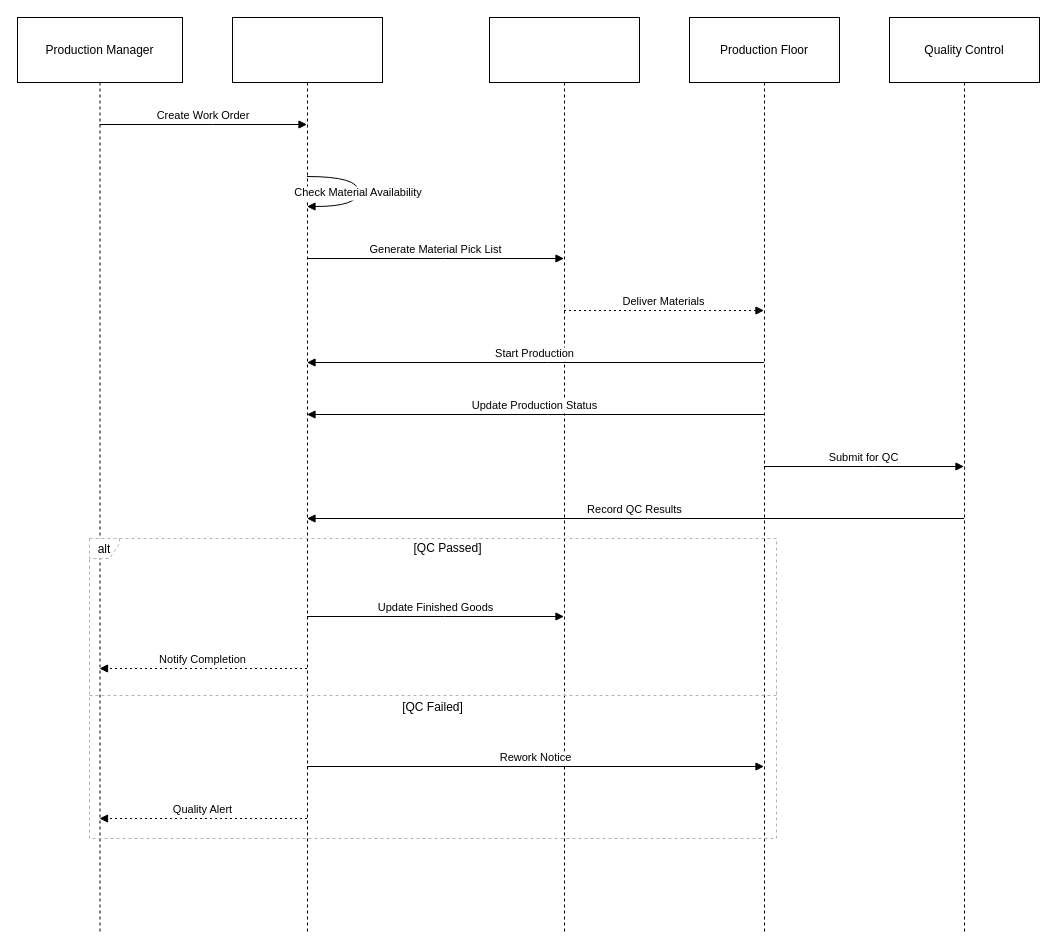
Some shapes in this 1057 by 951 pixel diagram are drawn without their labels. Here are the shapes that lost their labels. From the top down, the box of each, then its label:
(232, 16, 382, 934): System
(488, 16, 640, 934): Warehouse
